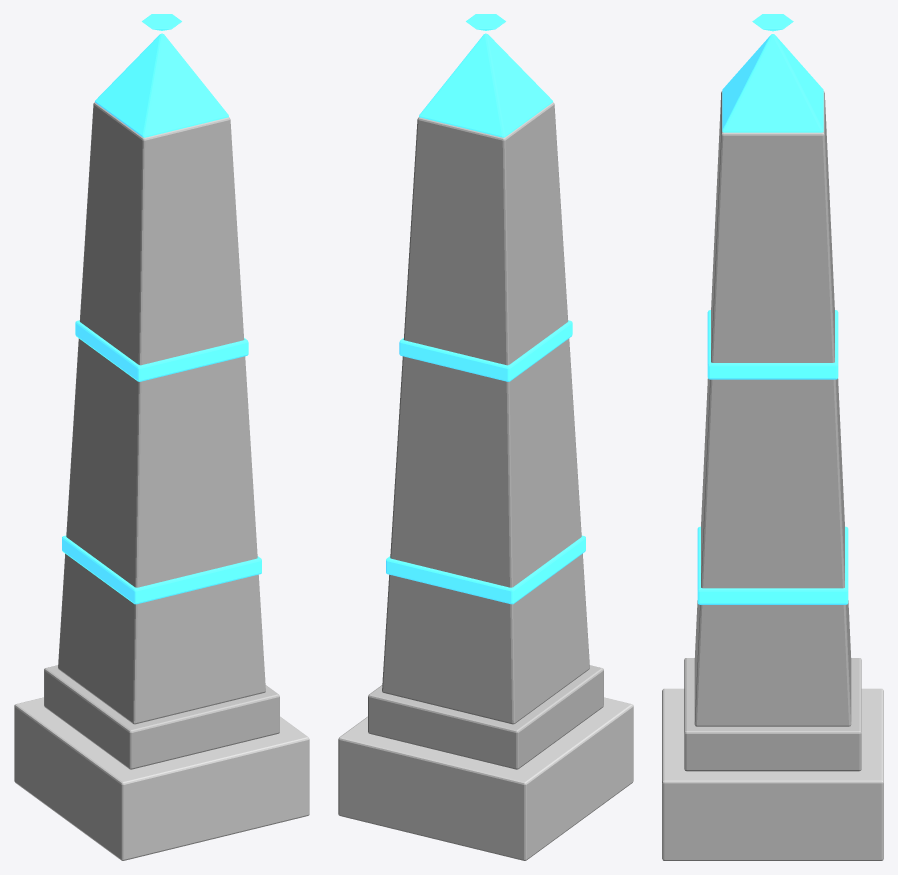
File: grecia_checkpoint.fbx
3 views of the same model, side by side, from view 1: azimuth 30°, elevation 25°; view 2: azimuth 150°, elevation 25°; view 3: azimuth 270°, elevation 25° (orthographic).
Visible parts, largest first — view 1: grecia_checkpoint; view 2: grecia_checkpoint; view 3: grecia_checkpoint.
Part boxes in pixels (x1,y1,x2,y2): grecia_checkpoint: [14, 14, 309, 860]; grecia_checkpoint: [338, 14, 633, 860]; grecia_checkpoint: [662, 14, 883, 860].
Size of the model in its own units: 1 by 3.95 by 1.
